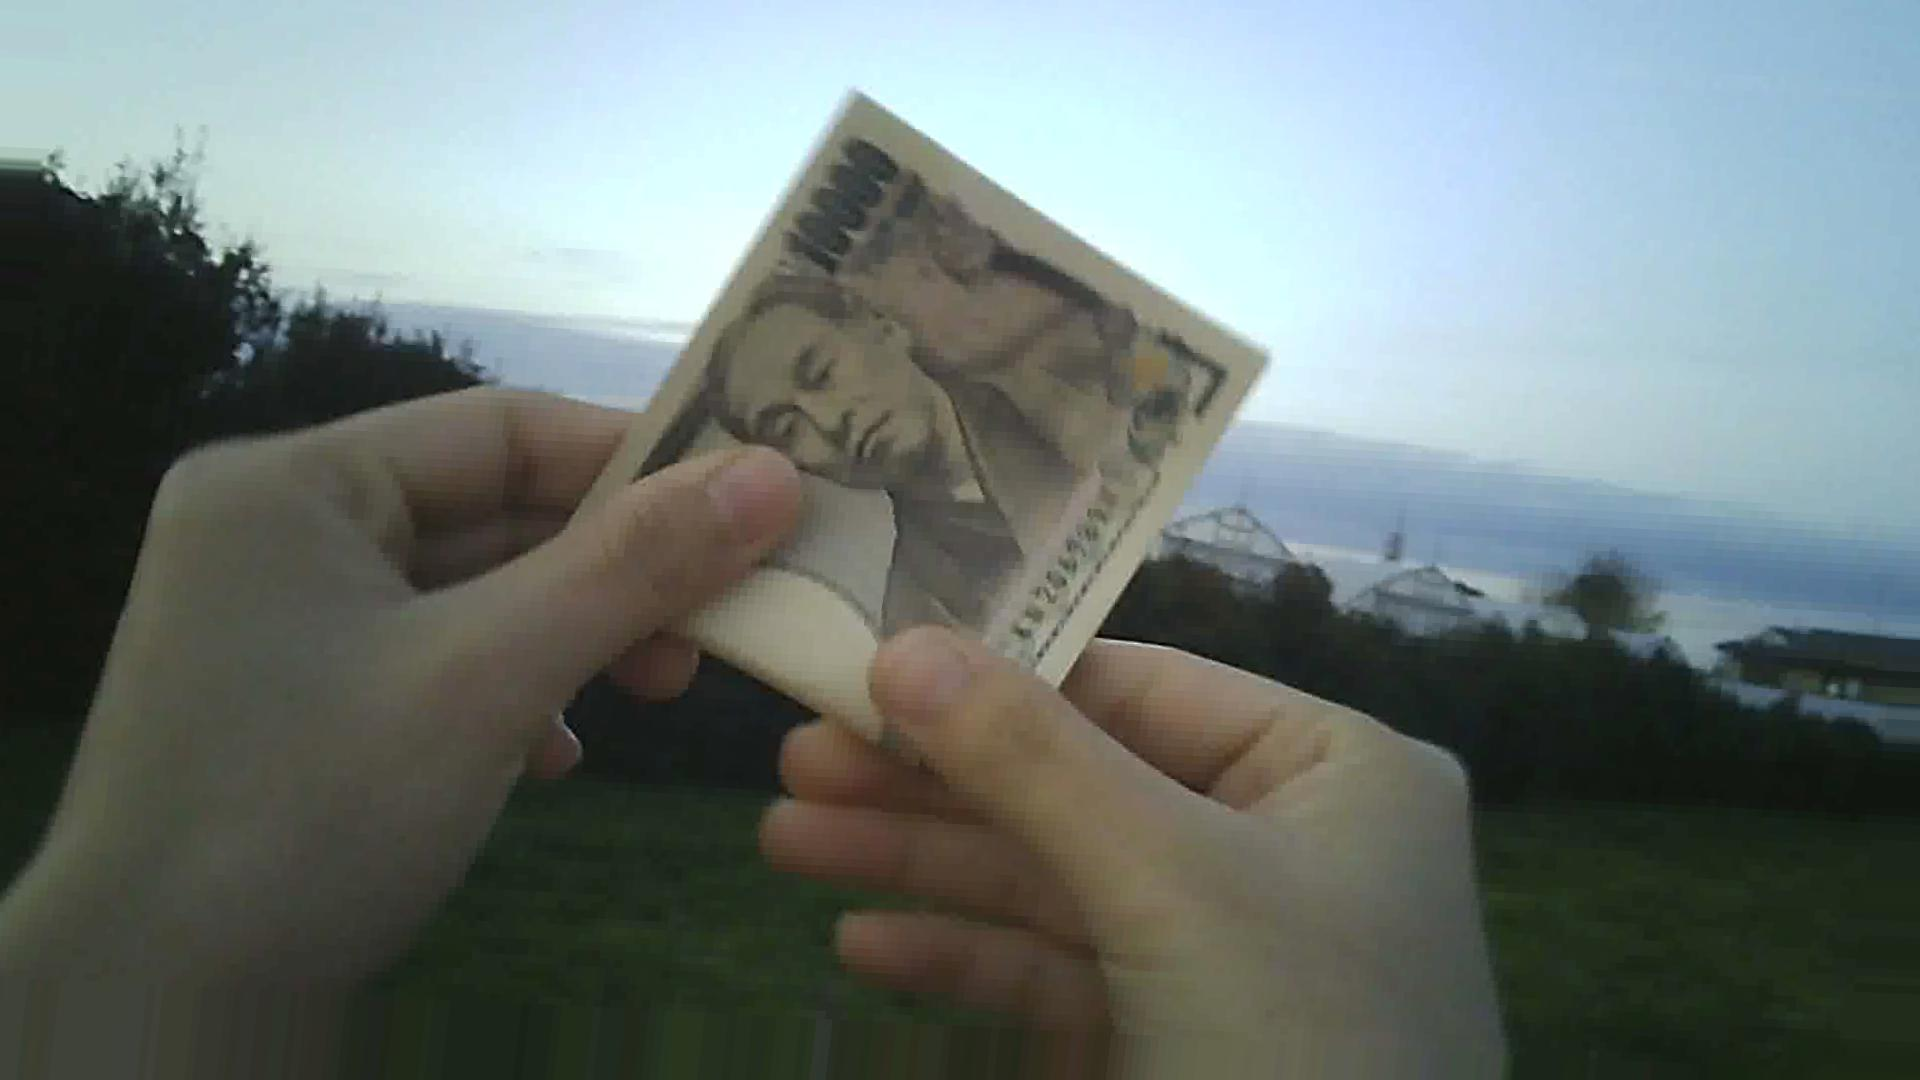10,000 Yen: (597, 92, 1247, 789)
